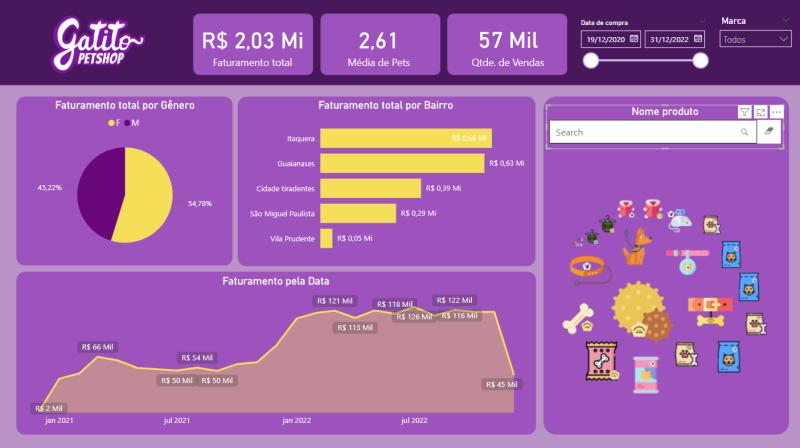

The dashboard page shown, as its layout file describes it:
{"tool":"powerbi","page":{"name":"Página 1","canvas":[1280,720],"ordinal":0},"visuals":[{"type":"card","fields":{"Values":["Avg(Clientes.Pets)"]},"box":[509.1,26.4,190.9,93.6],"z":0},{"type":"card","fields":{"Values":["Sum(Vendas.Quantidade)"]},"box":[722.7,26.4,176.4,93.6],"z":1000},{"type":"card","fields":{"Values":["Vendas.Faturamento total"]},"box":[311.8,26.4,182.7,93.6],"z":2000},{"type":"pieChart","fields":{"Category":["Clientes.Gênero"],"Y":["Vendas.Faturamento total"]},"box":[30,159.1,339.1,260.9],"z":3000},{"type":"clusteredBarChart","fields":{"Category":["Clientes.Bairro"],"Y":["Vendas.Faturamento total"]},"box":[385.5,159.1,460.9,260.9],"z":4000},{"type":"areaChart","title":"Faturamento pela Data","fields":{"Category":["Vendas.Data de compra.Variation.Hierarquia de datas.Ano","Vendas.Data de compra.Variation.Hierarquia de datas.Trimestre","Vendas.Data de compra.Variation.Hierarquia de datas.Mês","Vendas.Data de compra.Variation.Hierarquia de datas.Dia"],"Y":["Vendas.Faturamento total"]},"box":[34.5,440,811.8,250.9],"z":5000},{"type":"ImageGrid_FC5183B9_926C_45E0_B5F7_0CE9EAF1DA9B","fields":{"ImageURL":["Produtos.Url img"]},"box":[871.8,265.5,380,419.1],"z":6000},{"type":"textFilter25A4896A83E0487089E2B90C9AE57C8A","fields":{"field":["Produtos.Nome produto"]},"box":[871.8,169.1,380,70.9],"z":7000},{"type":"slicer","fields":{"Values":["Produtos.Marca"]},"box":[1139.1,21.8,134.5,98.2],"z":8000},{"type":"slicer","fields":{"Values":["Vendas.Data de compra"]},"box":[914.5,26.4,224.5,98.2],"z":9000}]}

Visuals, with their boxes in screenshot pixels (x1, y1, x2, y2), scaled from the page's 1280x720 canvas onto the 800x448 screenshot:
card - Avg(Clientes.Pets): 318, 16, 438, 75
card - Sum(Vendas.Quantidade): 452, 16, 562, 75
card - Vendas.Faturamento total: 195, 16, 309, 75
pieChart - Clientes.Gênero x Vendas.Faturamento total: 19, 99, 231, 261
clusteredBarChart - Clientes.Bairro x Vendas.Faturamento total: 241, 99, 529, 261
"Faturamento pela Data" areaChart: 22, 274, 529, 430
ImageGrid_FC5183B9_926C_45E0_B5F7_0CE9EAF1DA9B - Produtos.Url img: 545, 165, 782, 426
textFilter25A4896A83E0487089E2B90C9AE57C8A - Produtos.Nome produto: 545, 105, 782, 149
slicer - Produtos.Marca: 712, 14, 796, 75
slicer - Vendas.Data de compra: 572, 16, 712, 78
